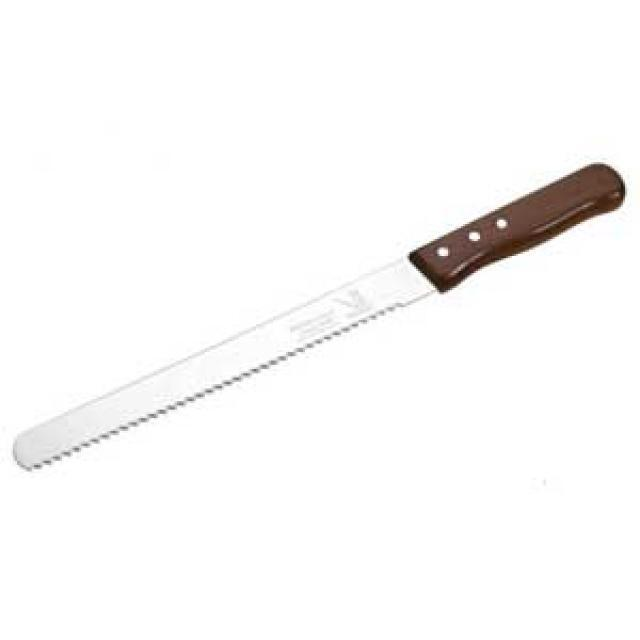Knife: (6, 149, 634, 491)
